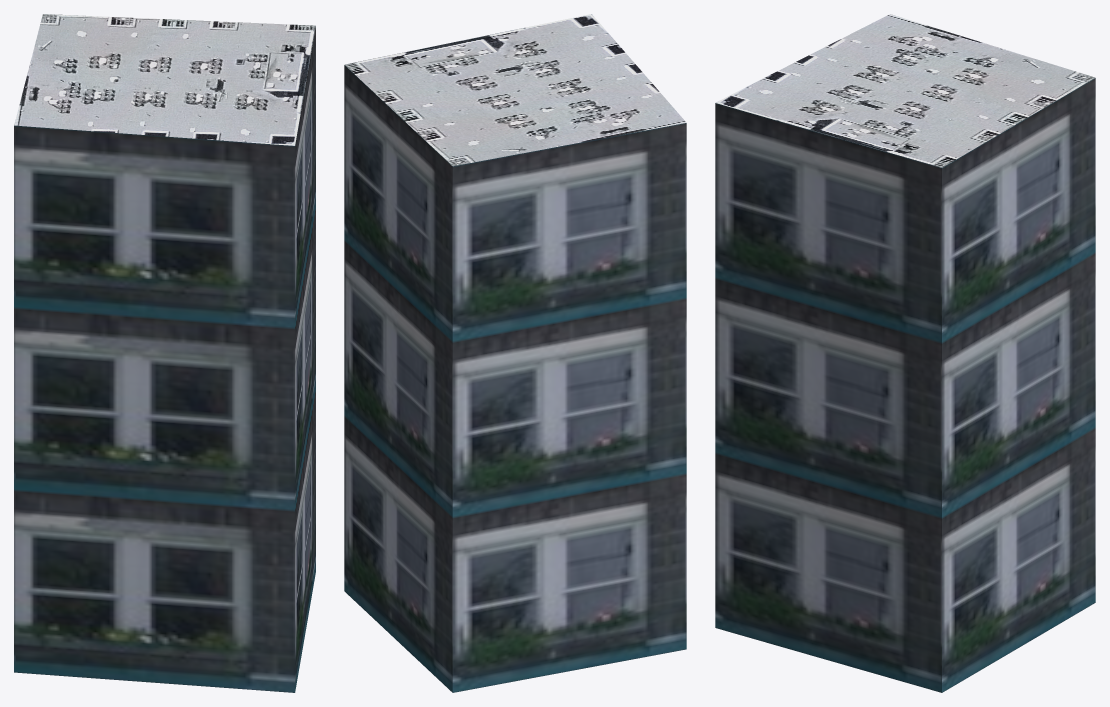
File: ResTex__3307.fbx
3 views of the same model, side by side, from view 1: azimuth 30°, elevation 25°; view 2: azimuth 150°, elevation 25°; view 3: azimuth 270°, elevation 25° (orthographic). The views are drawn at different scales.
Visible parts, largest first — view 1: CityEngineMaterial_11_m, CityEngineMaterial_4_m; view 2: CityEngineMaterial_11_m, CityEngineMaterial_4_m; view 3: CityEngineMaterial_11_m, CityEngineMaterial_4_m.
Part boxes in pixels (x1,y1,x2,y2): CityEngineMaterial_11_m: (14, 26, 315, 692); CityEngineMaterial_4_m: (14, 14, 315, 145); CityEngineMaterial_11_m: (344, 65, 686, 692); CityEngineMaterial_4_m: (344, 14, 686, 166); CityEngineMaterial_11_m: (715, 78, 1095, 692); CityEngineMaterial_4_m: (715, 14, 1095, 167).
Size of the model in its own units: 5.66 by 9 by 5.91.
Materials: 2 (2 with a texture image).
